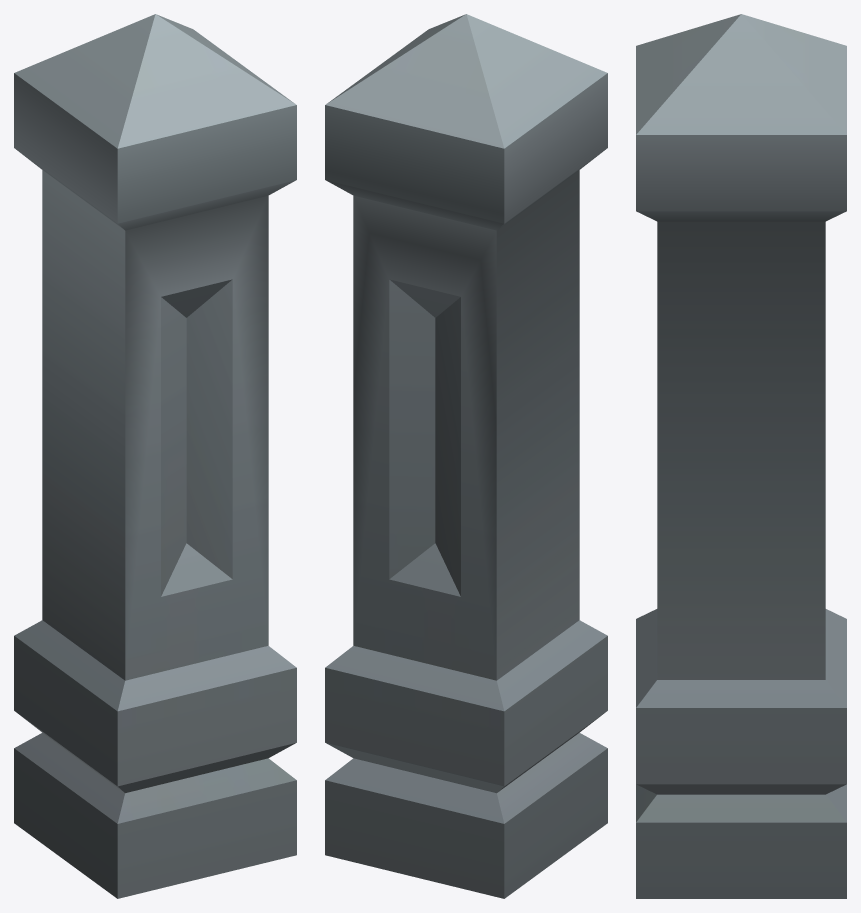
The model's file is pillar.glb.
The picture shows the model from 3 angles, left to right: view 1: azimuth 30°, elevation 25°; view 2: azimuth 150°, elevation 25°; view 3: azimuth 270°, elevation 25°; orthographic projection.
Parts seen in each view (by area): view 1: pillar; view 2: pillar; view 3: pillar.
Part boxes in pixels (x1,y1,x2,y2): pillar: (14,14,296,898); pillar: (325,14,607,898); pillar: (636,14,846,898).
Bounding box in the file's own units: 0.7273 × 3.2 × 0.7273.
1 material, 1 textured.
